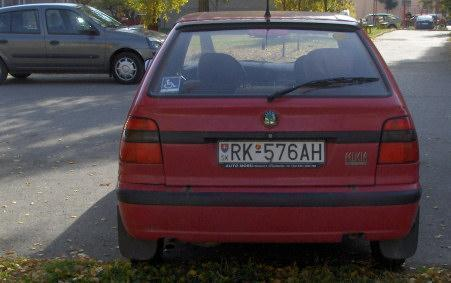placa de veiculo: (211, 129, 336, 179)
